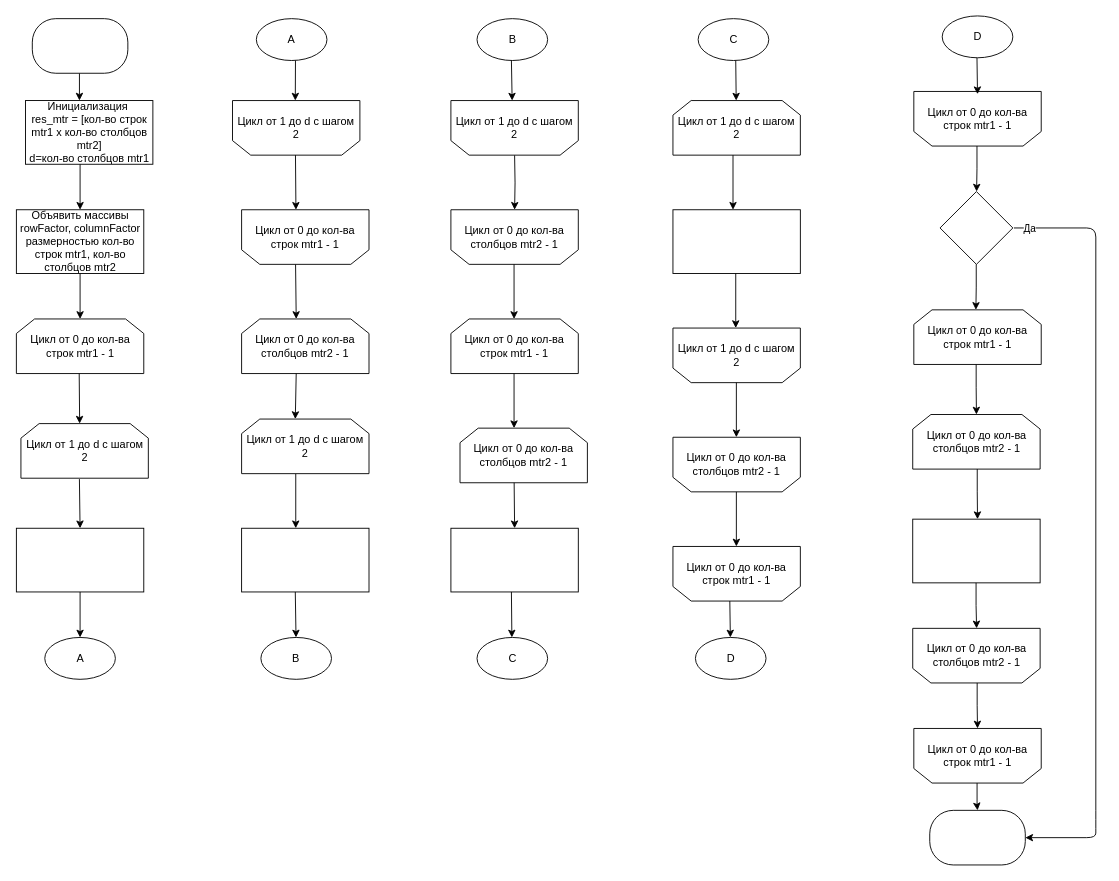
The diagram is 1119 pixels wide and 881 high, and some of its shapes have lost their labels. Here are the shapes that lost their labels. From the top down, the centre of each, then its label:
At (79,45): "Начало".
At (736,241): "res_mtr[i][j] += (mtr1[i][k - 1] + mtr2[k][j]) * (mtr1[i][k] + mtr2[k - 1][j])".
At (976,227): "d четное?".
At (79,559): "rowFactor[i] += mtr1[i][j - 1] * mtr1[i][j]".
At (305,559): "columnFactor[i] += mtr2[j - 1][i] * mtr2[j][i]".
At (514,559): "res_mtr[i][j] = -rowFactor[i] - columnFactor[j]".
At (976,550): "res_mtr[i][j] += mtr1[i][d - 1] * mtr2[d - 1][j]".
At (977,837): "Конец".
